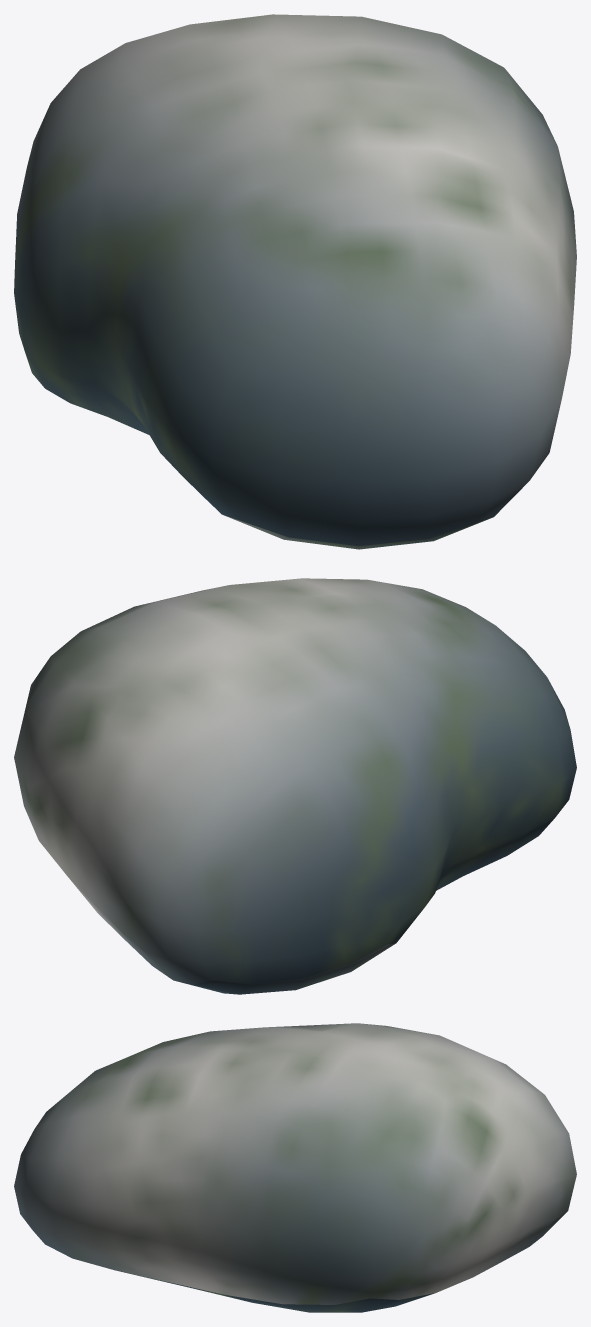
The model's file is Sea rock2.fbx.
3 renders of one model, top to bottom at view 1: azimuth 30°, elevation 25°; view 2: azimuth 150°, elevation 25°; view 3: azimuth 270°, elevation 25°, orthographic. The views are drawn at different scales.
Parts seen in each view (by area): view 1: OceanRock.001; view 2: OceanRock.001; view 3: OceanRock.001.
Boxes of the visible parts, bbox=[...] form: OceanRock.001: bbox=[14, 14, 576, 549]; OceanRock.001: bbox=[14, 578, 576, 994]; OceanRock.001: bbox=[14, 1023, 576, 1312].
Size of the model in its own units: 160 by 106 by 225.
